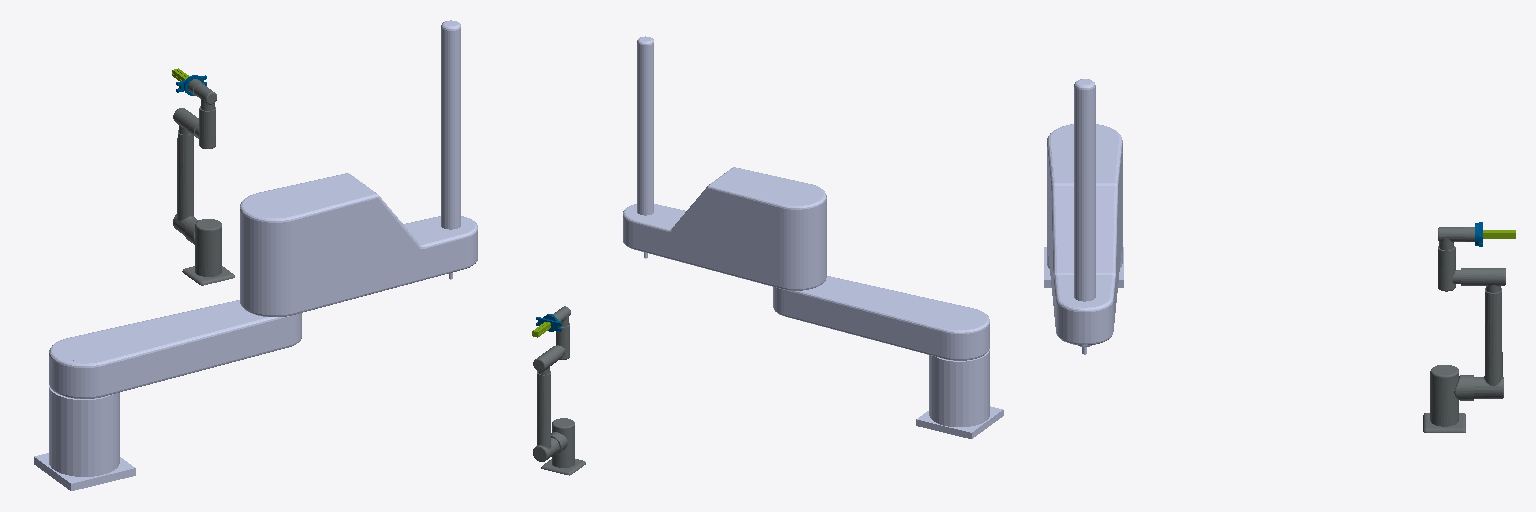
URDF robot description (combined_cell):
<?xml version="1.0"?>
<robot name="combined_cell">
  <link name="world"/>
  <joint name="scara_world_joint" type="fixed">
    <parent link="world"/>
    <child link="base_link"/>
    <origin xyz="-1 0 0.8" rpy="0 0 0"/>
  </joint>
  <joint name="bobby_world_joint" type="fixed">
    <parent link="world"/>
    <child link="bobby_base_link"/>
    <origin xyz="0 1.0 0.8" rpy="0 0 0"/>
  </joint>
<link
    name="base_link">
    <inertial>
      <origin
        xyz="0 0.00168973878682044 0.170983413772257"
        rpy="0 0 0" />
      <mass
        value="12.181226944499" />
      <inertia
        ixx="0.17468466573427"
        ixy="4.15759959089047E-18"
        ixz="2.94980095631604E-18"
        iyy="0.17468082989543"
        iyz="-0.000359769710444839"
        izz="0.0648964003406475" />
    </inertial>
    <visual>
      <origin
        xyz="0 0 0"
        rpy="0 0 0" />
      <geometry>
        <mesh
          filename="package://scara_robot_pkg/meshes/base_link.STL" />
      </geometry>
      <material
        name="">
        <color
          rgba="0.792156862745098 0.819607843137255 0.933333333333333 1" />
      </material>
    </visual>
    <collision>
      <origin
        xyz="0 0 0"
        rpy="0 0 0" />
      <geometry>
        <mesh
          filename="package://scara_robot_pkg/meshes/base_link.STL" />
      </geometry>
    </collision>
  </link>
  <link
    name="Link_1">
    <inertial>
      <origin
        xyz="0.315679111493496 0.00187609751792639 0.3325"
        rpy="0 0 0" />
      <mass
        value="13.501384910232" />
      <inertia
        ixx="0.0572222535179723"
        ixy="-9.50127835777007E-18"
        ixz="3.46444638425626E-18"
        iyy="0.554053995069199"
        iyz="-3.86417274088145E-18"
        izz="0.581830457702875" />
    </inertial>
    <visual>
      <origin
        xyz="0 0 0"
        rpy="0 0 0" />
      <geometry>
        <mesh
          filename="package://scara_robot_pkg/meshes/Link_1.STL" />
      </geometry>
      <material
        name="">
        <color
          rgba="0.792156862745098 0.819607843137255 0.933333333333333 1" />
      </material>
    </visual>
    <collision>
      <origin
        xyz="0 0 0"
        rpy="0 0 0" />
      <geometry>
        <mesh
          filename="package://scara_robot_pkg/meshes/Link_1.STL" />
      </geometry>
    </collision>
  </link>
  <joint
    name="Joint_1"
    type="revolute">
    <origin
      xyz="0 0 0"
      rpy="0 0 0" />
    <parent
      link="base_link" />
    <child
      link="Link_1" />
    <axis
      xyz="0 0 -1" />
    <limit
      lower="-2.53"
      upper="2.53"
      effort="0"
      velocity="7.1" />
  </joint>
  <link
    name="Link_2">
    <inertial>
      <origin
        xyz="0.190594383553034 8.92086404746806E-12 0.251287080531013"
        rpy="0 0 0" />
      <mass
        value="35.3260682085601" />
      <inertia
        ixx="0.434226114580085"
        ixy="-3.43699463108326E-11"
        ixz="0.141807287426322"
        iyy="1.54310732304715"
        iyz="-3.01122719618856E-11"
        izz="1.31387961173795" />
    </inertial>
    <visual>
      <origin
        xyz="0 0 0"
        rpy="0 0 0" />
      <geometry>
        <mesh
          filename="package://scara_robot_pkg/meshes/Link_2.STL" />
      </geometry>
      <material
        name="">
        <color
          rgba="0.792156862745098 0.819607843137255 0.933333333333333 1" />
      </material>
    </visual>
    <collision>
      <origin
        xyz="0 0 0"
        rpy="0 0 0" />
      <geometry>
        <mesh
          filename="package://scara_robot_pkg/meshes/Link_2.STL" />
      </geometry>
    </collision>
  </link>
  <joint
    name="Joint_2"
    type="revolute">
    <origin
      xyz="0.65 0.00187609751792639 0.275"
      rpy="0 0 0" />
    <parent
      link="Link_1" />
    <child
      link="Link_2" />
    <axis
      xyz="0 0 1" />
    <limit
      lower="-2.53"
      upper="2.53"
      effort="0"
      velocity="9.14" />
  </joint>
  <link
    name="Link_3">
    <inertial>
      <origin
        xyz="-2.22044604925031E-16 -2.22044604925031E-16 0.400848368011618"
        rpy="0 0 0" />
      <mass
        value="2.2590769242565" />
      <inertia
        ixx="0.119959265282819"
        ixy="-4.24291955451419E-21"
        ixz="-4.13754800332627E-20"
        iyy="0.119959265282819"
        iyz="-1.30016903886111E-19"
        izz="0.00101213903600915" />
    </inertial>
    <visual>
      <origin
        xyz="0 0 0"
        rpy="0 0 0" />
      <geometry>
        <mesh
          filename="package://scara_robot_pkg/meshes/Link_3.STL" />
      </geometry>
      <material
        name="">
        <color
          rgba="0.792156862745098 0.819607843137255 0.933333333333333 1" />
      </material>
    </visual>
    <collision>
      <origin
        xyz="0 0 0"
        rpy="0 0 0" />
      <geometry>
        <mesh
          filename="package://scara_robot_pkg/meshes/Link_3.STL" />
      </geometry>
    </collision>
  </link>
  <joint
    name="Joint_3"
    type="prismatic">
    <origin
      xyz="0.6 0 0.886978614262261"
      rpy="3.14159265358979 0 0" />
    <parent
      link="Link_2" />
    <child
      link="Link_3" />
    <axis
      xyz="0 0 -1" />
    <limit
      lower="-0.45"
      upper="0"
      effort="0"
      velocity="2.24" />
  </joint>
  <link
    name="Link_4">
    <inertial>
      <origin
        xyz="-2.22044604925031E-16 0 -0.00126874999999993"
        rpy="0 0 0" />
      <mass
        value="5.61232437594433E-05" />
      <inertia
        ixx="1.50285331365377E-10"
        ixy="-1.05664104903945E-26"
        ixz="-9.29971021358974E-30"
        iyy="1.50285331365377E-10"
        iyz="8.77391512839114E-27"
        izz="1.85627628734358E-10" />
    </inertial>
    <visual>
      <origin
        xyz="0 0 0"
        rpy="0 0 0" />
      <geometry>
        <mesh
          filename="package://scara_robot_pkg/meshes/Link_4.STL" />
      </geometry>
      <material
        name="">
        <color
          rgba="0.792156862745098 0.819607843137255 0.933333333333333 1" />
      </material>
    </visual>
    <collision>
      <origin
        xyz="0 0 0"
        rpy="0 0 0" />
      <geometry>
        <mesh
          filename="package://scara_robot_pkg/meshes/Link_4.STL" />
      </geometry>
    </collision>
  </link>
  <joint
    name="Joint_4"
    type="revolute">
    <origin
      xyz="0 0 0.8335"
      rpy="0 0 0" />
    <parent
      link="Link_3" />
    <child
      link="Link_4" />
    <axis
      xyz="0 0 -1" />
    <limit
      lower="-6.98"
      upper="6.98"
      effort="0"
      velocity="29.7" />
  </joint>
<link
    name="bobby_base_link">
    <inertial>
      <origin
        xyz="-6.93889390390723E-18 -8.67361737988404E-18 0.00903009179983284"
        rpy="0 0 0" />
      <mass
        value="0.168853238991176" />
      <inertia
        ixx="0.000188908722369925"
        ixy="-5.7902642878712E-21"
        ixz="4.9831826221772E-21"
        iyy="0.000188908722369926"
        iyz="-1.68425616825269E-20"
        izz="0.000347553571686864" />
    </inertial>
    <visual>
      <origin
        xyz="0 0 0"
        rpy="0 0 0" />
      <geometry>
        <mesh
          filename="package://bobby/meshes/base_link.STL" />
      </geometry>
      <material
        name="technikum_grau">
        <color
          rgba="0.447 0.471 0.478 1" />
      </material>
    </visual>
    <collision>
      <origin
        xyz="0 0 0"
        rpy="0 0 0" />
      <geometry>
        <mesh
          filename="package://bobby/meshes/base_link.STL" />
      </geometry>
    </collision>
  </link>
  <link
    name="bobby_link_1">
    <inertial>
      <origin
        xyz="-2.15652112519824E-07 0.0107734448420019 0.109157368914489"
        rpy="0 0 0" />
      <mass
        value="0.19567354215977" />
      <inertia
        ixx="0.00036569472644765"
        ixy="3.25955315579442E-10"
        ixz="1.75361435601525E-09"
        iyy="0.000399646100597159"
        iyz="5.8509284245807E-07"
        izz="0.000228564395108126" />
    </inertial>
    <visual>
      <origin
        xyz="0 0 0"
        rpy="0 0 0" />
      <geometry>
        <mesh
          filename="package://bobby/meshes/link_1.STL" />
      </geometry>
      <material
        name="technikum_grau">
        <color
          rgba="0.447 0.471 0.478 1" />
      </material>
    </visual>
    <collision>
      <origin
        xyz="0 0 0"
        rpy="0 0 0" />
      <geometry>
        <mesh
          filename="package://bobby/meshes/link_1.STL" />
      </geometry>
    </collision>
  </link>
  <joint
    name="joint_1"
    type="revolute">
    <origin
      xyz="0 0 0"
      rpy="0 0 0" />
    <parent
      link="bobby_base_link" />
    <child
      link="bobby_link_1" />
    <axis
      xyz="0 0 1" />
    <limit
      lower="-3.14"
      upper="3.14"
      effort="80"
      velocity="1.5" />
    <dynamics
      damping="0.2" />
  </joint>
  <link
    name="bobby_link_2">
    <inertial>
      <origin
        xyz="-1.60868451060114E-08 -0.114041602248857 0.132749921878617"
        rpy="0 0 0" />
      <mass
        value="0.277035202004268" />
      <inertia
        ixx="0.00289478457764281"
        ixy="-1.24048336188053E-09"
        ixz="1.22368569354385E-09"
        iyy="0.000189976410051189"
        iyz="7.94253254153287E-05"
        izz="0.00286373711090803" />
    </inertial>
    <visual>
      <origin
        xyz="0 0 0"
        rpy="0 0 0" />
      <geometry>
        <mesh
          filename="package://bobby/meshes/link_2.STL" />
      </geometry>
      <material
        name="technikum_grau">
        <color
          rgba="0.447 0.471 0.478 1" />
      </material>
    </visual>
    <collision>
      <origin
        xyz="0 0 0"
        rpy="0 0 0" />
      <geometry>
        <mesh
          filename="package://bobby/meshes/link_2.STL" />
      </geometry>
    </collision>
  </link>
  <joint
    name="joint_2"
    type="revolute">
    <origin
      xyz="0 0 0.11"
      rpy="-1.5707963267949 0 0" />
    <parent
      link="bobby_link_1" />
    <child
      link="bobby_link_2" />
    <axis
      xyz="0 0 1" />
    <limit
      lower="-2"
      upper="2"
      effort="60"
      velocity="1.5" />
    <dynamics
      damping="0.15" />
  </joint>
  <link
    name="bobby_link_3">
    <inertial>
      <origin
        xyz="-4.46835846875521E-07 -0.021332834225784 0.336950985055037"
        rpy="0 0 0" />
      <mass
        value="0.104323112073039" />
      <inertia
        ixx="0.000172552084016025"
        ixy="1.24275852401533E-10"
        ixz="-1.16774421742549E-10"
        iyy="5.69008711097092E-05"
        iyz="6.87130934985452E-06"
        izz="0.000165314592613562" />
    </inertial>
    <visual>
      <origin
        xyz="0 0 0"
        rpy="0 0 0" />
      <geometry>
        <mesh
          filename="package://bobby/meshes/link_3.STL" />
      </geometry>
      <material
        name="technikum_grau">
        <color
          rgba="0.447 0.471 0.478 1" />
      </material>
    </visual>
    <collision>
      <origin
        xyz="0 0 0"
        rpy="0 0 0" />
      <geometry>
        <mesh
          filename="package://bobby/meshes/link_3.STL" />
      </geometry>
    </collision>
  </link>
  <joint
    name="joint_3"
    type="revolute">
    <origin
      xyz="0 0 0.135"
      rpy="1.5707963267949 0 0" />
    <parent
      link="bobby_link_2" />
    <child
      link="bobby_link_3" />
    <axis
      xyz="0 0 -1" />
    <limit
      lower="-2.5"
      upper="2.5"
      effort="40"
      velocity="2" />
    <dynamics
      damping="0.1" />
  </joint>
  <link
    name="bobby_link_4">
    <inertial>
      <origin
        xyz="-7.35759638319233E-08 0.0214973669189123 0.127010226840711"
        rpy="0 0 0" />
      <mass
        value="0.104021403954901" />
      <inertia
        ixx="0.000172095228395825"
        ixy="5.22139873101622E-11"
        ixz="-7.41592698784508E-11"
        iyy="5.67379606621111E-05"
        iyz="-6.68507413422721E-06"
        izz="0.000164961710546567" />
    </inertial>
    <visual>
      <origin
        xyz="0 0 0"
        rpy="0 0 0" />
      <geometry>
        <mesh
          filename="package://bobby/meshes/link_4.STL" />
      </geometry>
      <material
        name="technikum_grau">
        <color
          rgba="0.447 0.471 0.478 1" />
      </material>
    </visual>
    <collision>
      <origin
        xyz="0 0 0"
        rpy="0 0 0" />
      <geometry>
        <mesh
          filename="package://bobby/meshes/link_4.STL" />
      </geometry>
    </collision>
  </link>
  <joint
    name="joint_4"
    type="revolute">
    <origin
      xyz="0 0.000262563950500366 0.34"
      rpy="1.5707963267949 0 0" />
    <parent
      link="bobby_link_3" />
    <child
      link="bobby_link_4" />
    <axis
      xyz="0 0 -1" />
    <limit
      lower="-3.14"
      upper="3.14"
      effort="20"
      velocity="3" />
    <dynamics
      damping="0.05" />
  </joint>
  <link
    name="bobby_link_5">
    <inertial>
      <origin
        xyz="-7.72747078825464E-09 0.0118852064404541 0.124078122231419"
        rpy="0 0 0" />
      <mass
        value="0.0635312499775335" />
      <inertia
        ixx="5.3078651829625E-05"
        ixy="-2.16462957974075E-11"
        ixz="-2.18923663634894E-11"
        iyy="2.59966766341151E-05"
        iyz="-4.43828682190682E-06"
        izz="4.66910033521407E-05" />
    </inertial>
    <visual>
      <origin
        xyz="0 0 0"
        rpy="0 0 0" />
      <geometry>
        <mesh
          filename="package://bobby/meshes/link_5.STL" />
      </geometry>
      <material
        name="technikum_grau">
        <color
          rgba="0.447 0.471 0.478 1" />
      </material>
    </visual>
    <collision>
      <origin
        xyz="0 0 0"
        rpy="0 0 0" />
      <geometry>
        <mesh
          filename="package://bobby/meshes/link_5.STL" />
      </geometry>
    </collision>
  </link>
  <joint
    name="joint_5"
    type="revolute">
    <origin
      xyz="0 -0.000178126389957234 0.13"
      rpy="-1.5707963267949 0 0" />
    <parent
      link="bobby_link_4" />
    <child
      link="bobby_link_5" />
    <axis
      xyz="0 0 -1" />
    <limit
      lower="-2"
      upper="2"
      effort="15"
      velocity="3.5" />
    <dynamics
      damping="0.05" />
  </joint>
  <link
    name="bobby_link_6">
    <inertial>
      <origin
        xyz="-9.09411435046081E-14 -4.99933427988708E-13 0.00443393044915172"
        rpy="0 0 0" />
      <mass
        value="0.0247796339074861" />
      <inertia
        ixx="5.79719477129161E-06"
        ixy="1.69371937738642E-21"
        ixz="-1.74584771115396E-21"
        iyy="5.61206813663289E-06"
        iyz="1.25047386620786E-20"
        izz="8.2664668127508E-06" />
    </inertial>
    <visual>
      <origin xyz="0 0 -0.005" rpy="0 0 0"/>
      <geometry><mesh filename="package://bobby/meshes/link_6.STL" scale="0.001 0.001 0.001"/></geometry>
      <material name="technikum_grau"><color rgba="0.447 0.471 0.478 1"/></material>
    </visual>
    <collision>
      <origin xyz="0 0 -0.005" rpy="0 0 0"/>
      <geometry><mesh filename="package://bobby/meshes/link_6.STL" scale="0.001 0.001 0.001"/></geometry>
    </collision>
  </link>
  <joint
    name="joint_6"
    type="revolute">
    <origin
      xyz="0 0.0700000000012193 0.129999999999002"
      rpy="-1.57079632679489 0 0" />
    <parent
      link="bobby_link_5" />
    <child
      link="bobby_link_6" />
    <axis
      xyz="0 0 -1" />
    <limit
      lower="-3.14"
      upper="3.14"
      effort="10"
      velocity="4" />
    <dynamics
      damping="0.03" />
  </joint>
  
  
  <link name="bobby_gripper_flange">
    <inertial>
      <origin xyz="0 0 0.005" rpy="0 0 0"/>
      <mass value="0.2"/>
      <inertia ixx="6.782e-05" ixy="0" ixz="0" iyy="6.782e-05" iyz="0" izz="1.323e-04"/>
    </inertial>
    <visual>
      <origin xyz="0 0 0.005" rpy="0 0 0"/>
      <geometry><mesh filename="package://bobby/meshes/gripper_flange.STL" scale="0.001 0.001 0.001"/></geometry>
      <material name="technikum_blau"><color rgba="0 0.392 0.612 1"/></material>
    </visual>
    <collision>
      <origin xyz="0 0 0.005" rpy="0 0 0"/>
      <geometry><mesh filename="package://bobby/meshes/gripper_flange.STL" scale="0.001 0.001 0.001"/></geometry>
    </collision>
  </link>
  <joint name="gripper_flange_joint" type="fixed">
    <origin xyz="0 0 0.01" rpy="0 0 0"/>
    <parent link="bobby_link_6"/>
    <child link="bobby_gripper_flange"/>
    <axis xyz="0 0 0"/>
  </joint>

  
  <link name="bobby_gripper_base">
    <inertial>
      <origin xyz="0 0 0.015" rpy="0 0 0"/>
      <mass value="0.028"/>
      <inertia ixx="2.333e-06" ixy="0" ixz="0" iyy="2.357e-05" iyz="0" izz="2.543e-05"/>
    </inertial>
    <visual>
      <origin xyz="0 0 0.015" rpy="0 0 0"/>
      <geometry><mesh filename="package://bobby/meshes/gripper_base.STL" scale="0.001 0.001 0.001"/></geometry>
      <material name="technikum_blau"/>
    </visual>
    <collision>
      <origin xyz="0 0 0.015" rpy="0 0 0"/>
      <geometry><mesh filename="package://bobby/meshes/gripper_base.STL" scale="0.001 0.001 0.001"/></geometry>
    </collision>
  </link>
  <joint name="gripper_base_joint" type="fixed">
    <origin xyz="0 0 0" rpy="0 0 0"/>
    <parent link="bobby_gripper_flange"/>
    <child link="bobby_gripper_base"/>
    <axis xyz="0 0 0"/>
  </joint>

  
  <link name="bobby_finger_left">
    <inertial>
      <origin xyz="0 0 0.045" rpy="0 0 0"/>
      <mass value="0.05"/>
      <inertia ixx="3.542e-05" ixy="0" ixz="0" iyy="3.417e-05" iyz="0" izz="2.083e-06"/>
    </inertial>
    <visual>
      <origin xyz="0 0 0.045" rpy="0 0 0"/>
      <geometry><mesh filename="package://bobby/meshes/finger_left.STL" scale="0.001 0.001 0.001"/></geometry>
      <material name="technikum_gruen"><color rgba="0.545 0.702 0.114 1"/></material>
    </visual>
    <collision>
      <origin xyz="0 0 0.045" rpy="0 0 0"/>
      <geometry><mesh filename="package://bobby/meshes/finger_left.STL" scale="0.001 0.001 0.001"/></geometry>
    </collision>
  </link>
  <joint name="finger_left_joint" type="prismatic">
    <origin xyz="0.006 0 0.021" rpy="0 0 0"/>
    <parent link="bobby_gripper_base"/>
    <child link="bobby_finger_left"/>
    <axis xyz="1 0 0"/>
    <limit lower="0" upper="0.04" effort="50" velocity="0.1"/>
  </joint>

  
  <link name="bobby_finger_right">
    <inertial>
      <origin xyz="0 0 0.045" rpy="0 0 0"/>
      <mass value="0.05"/>
      <inertia ixx="3.542e-05" ixy="0" ixz="0" iyy="3.417e-05" iyz="0" izz="2.083e-06"/>
    </inertial>
    <visual>
      <origin xyz="0 0 0.045" rpy="0 0 0"/>
      <geometry><mesh filename="package://bobby/meshes/finger_left.STL" scale="0.001 0.001 0.001"/></geometry>
      <material name="technikum_gruen"><color rgba="0.545 0.702 0.114 1"/></material>
    </visual>
    <collision>
      <origin xyz="0 0 0.045" rpy="0 0 0"/>
      <geometry><mesh filename="package://bobby/meshes/finger_left.STL" scale="0.001 0.001 0.001"/></geometry>
    </collision>
  </link>
  <joint name="finger_right_joint" type="prismatic">
    <origin xyz="-0.006 0 0.021" rpy="0 0 0"/>
    <parent link="bobby_gripper_base"/>
    <child link="bobby_finger_right"/>
    <axis xyz="1 0 0"/>
    <limit lower="-0.04" upper="0" effort="50" velocity="0.1"/>
  </joint>

  
  <link name="bobby_TCP"/>
  <joint name="TCP_joint" type="fixed">
    <origin xyz="0 0 0.111" rpy="0 0 0"/>
    <parent link="bobby_gripper_base"/>
    <child link="bobby_TCP"/>
    <axis xyz="0 0 0"/>
  </joint>
  <ros2_control name="CombinedGazeboSystem" type="system">
    <hardware>
      <plugin>gazebo_ros2_control/GazeboSystem</plugin>
    </hardware>
    <joint name="Joint_1">
      <command_interface name="position">
        <param name="min">-2.5299</param>
        <param name="max">2.5299</param>
      </command_interface>
      <state_interface name="position">
        <param name="initial_value">0.6849</param>
      </state_interface>
      <state_interface name="velocity"/>
    </joint>
    <joint name="Joint_2">
      <command_interface name="position">
        <param name="min">-2.5299</param>
        <param name="max">2.5299</param>
      </command_interface>
      <state_interface name="position">
        <param name="initial_value">-2.5299</param>
      </state_interface>
      <state_interface name="velocity"/>
    </joint>
    <joint name="Joint_3">
      <command_interface name="position">
        <param name="min">-0.45</param>
        <param name="max">0.0</param>
      </command_interface>
      <state_interface name="position">
        <param name="initial_value">0.0</param>
      </state_interface>
      <state_interface name="velocity"/>
    </joint>
    <joint name="Joint_4">
      <command_interface name="position">
        <param name="min">-6.98</param>
        <param name="max">6.98</param>
      </command_interface>
      <state_interface name="position">
        <param name="initial_value">0.0</param>
      </state_interface>
      <state_interface name="velocity"/>
    </joint>
    <joint name="joint_1">
      <command_interface name="position"/>
      <state_interface name="position">
        <param name="initial_value">0.0</param>
      </state_interface>
      <state_interface name="velocity"/>
    </joint>
    <joint name="joint_2">
      <command_interface name="position"/>
      <state_interface name="position">
        <param name="initial_value">0.0</param>
      </state_interface>
      <state_interface name="velocity"/>
    </joint>
    <joint name="joint_3">
      <command_interface name="position"/>
      <state_interface name="position">
        <param name="initial_value">0.0</param>
      </state_interface>
      <state_interface name="velocity"/>
    </joint>
    <joint name="joint_4">
      <command_interface name="position"/>
      <state_interface name="position">
        <param name="initial_value">0.0</param>
      </state_interface>
      <state_interface name="velocity"/>
    </joint>
    <joint name="joint_5">
      <command_interface name="position"/>
      <state_interface name="position">
        <param name="initial_value">0.0</param>
      </state_interface>
      <state_interface name="velocity"/>
    </joint>
    <joint name="joint_6">
      <command_interface name="position"/>
      <state_interface name="position">
        <param name="initial_value">0.0</param>
      </state_interface>
      <state_interface name="velocity"/>
    </joint>
    <joint name="finger_left_joint">
      <command_interface name="position"/>
      <state_interface name="position">
        <param name="initial_value">0.02</param>
      </state_interface>
      <state_interface name="velocity"/>
    </joint>
    <joint name="finger_right_joint">
      <command_interface name="position"/>
      <state_interface name="position">
        <param name="initial_value">-0.02</param>
      </state_interface>
      <state_interface name="velocity"/>
    </joint>
  </ros2_control>
  <gazebo>
    <plugin filename="libgazebo_ros2_control.so" name="combined_gazebo_ros2_control">
      <robot_param>robot_description</robot_param>
      <robot_param_node>robot_state_publisher</robot_param_node>
      <parameters>__COMBINED_CONTROLLERS_YAML__</parameters>
    </plugin>
  </gazebo>
</robot>

--- Render facts (derived) ---
Views: 3 orthographic renders of the robot side by side, from view 1: azimuth 30°, elevation 25°; view 2: azimuth 150°, elevation 25°; view 3: azimuth 270°, elevation 25°.
Model combined_cell with 18 links and 17 joints (9 revolute, 3 prismatic, 5 fixed), rooted at world, posed all joints at 0.
Links seen in each view (by area): view 1: Link_2, Link_1, base_link, Link_3, bobby_link_2, bobby_link_1, bobby_base_link, bobby_link_4; view 2: Link_2, Link_1, base_link, Link_3, bobby_link_2, bobby_link_1; view 3: Link_2, Link_3, bobby_link_2, bobby_link_1, bobby_link_3, bobby_link_4, bobby_base_link.
Link boxes in pixels (x1,y1,x2,y2): Link_2: [240, 173, 477, 316]; Link_1: [49, 300, 301, 398]; base_link: [34, 339, 135, 490]; Link_3: [441, 20, 460, 278]; bobby_link_2: [173, 130, 196, 235]; bobby_link_1: [185, 219, 221, 267]; bobby_base_link: [182, 263, 234, 285]; bobby_link_4: [195, 106, 215, 148]; Link_2: [623, 167, 826, 290]; Link_1: [773, 276, 989, 360]; base_link: [916, 309, 1003, 438]; Link_3: [637, 36, 653, 257]; bobby_link_2: [533, 371, 559, 461]; bobby_link_1: [551, 418, 574, 459]; Link_2: [1047, 124, 1122, 345]; Link_3: [1074, 79, 1095, 354]; bobby_link_2: [1474, 288, 1503, 398]; bobby_link_1: [1430, 365, 1473, 416]; bobby_link_3: [1461, 268, 1505, 292]; bobby_link_4: [1438, 246, 1460, 291]; bobby_base_link: [1423, 412, 1465, 432].
Bounding box of the posed robot: 1.44 × 1.31 × 1.16 m (x, y, z).
16 mesh visuals loaded from 15 distinct referenced files (15 binary STL).
